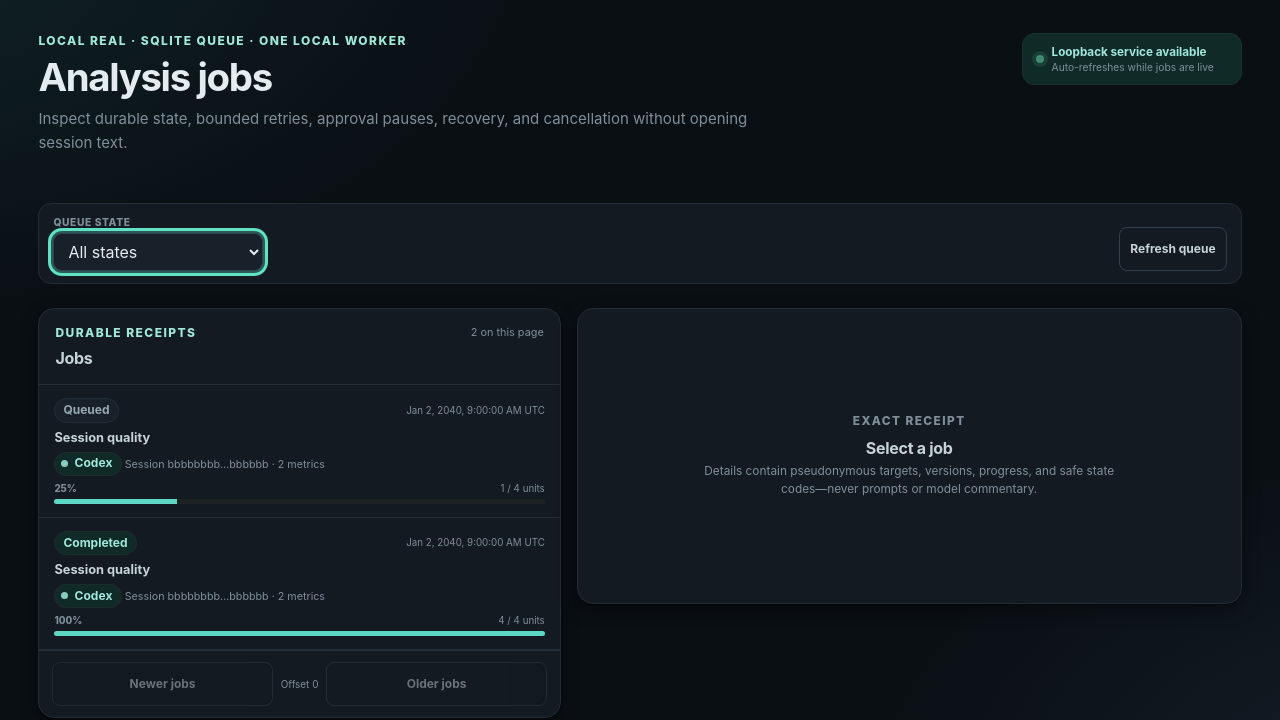
Test case: AnalysisJobCentre › filters through the authenticated list route and opens verified detail with keyboard-focusable controls
Expected: the text "2 on this page" is shown, [471,325,544,339]
Select "Completed" in the dropdown labelled "Queue state" at (158, 252), box [53,233,263,271]
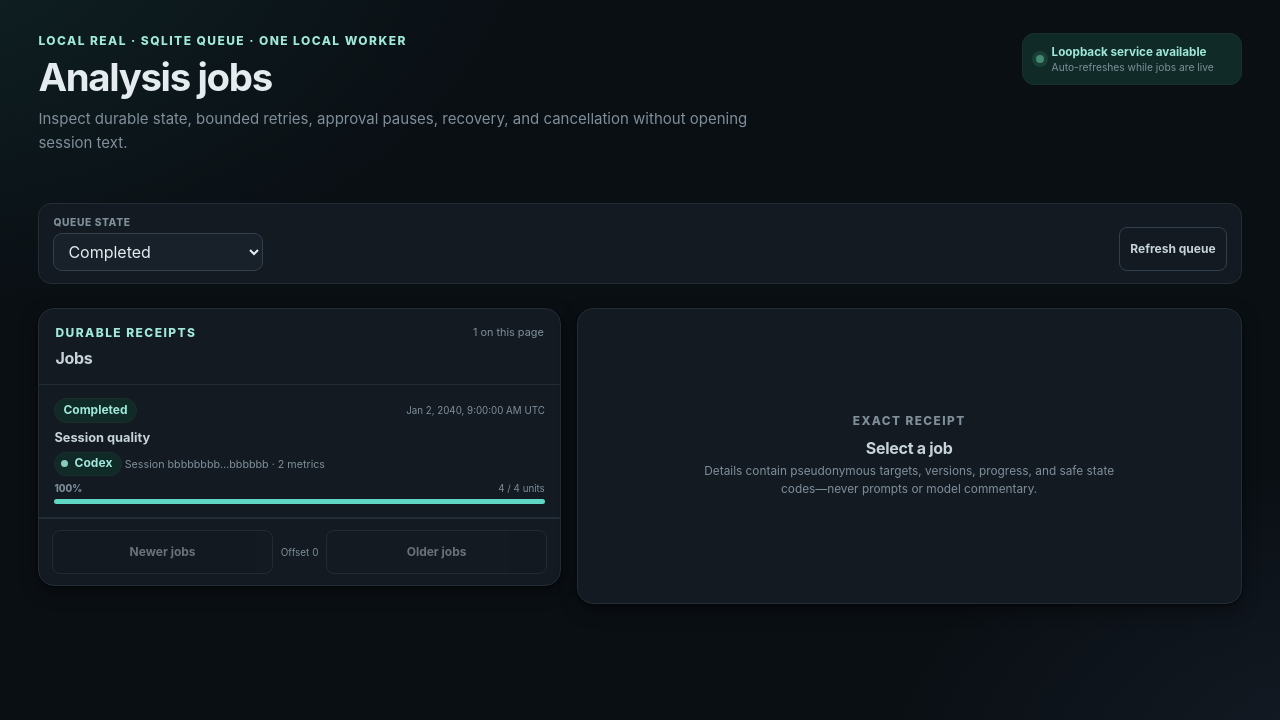
Click the button with class "analysis-job-card" at (95, 410), box [39,385,560,518]
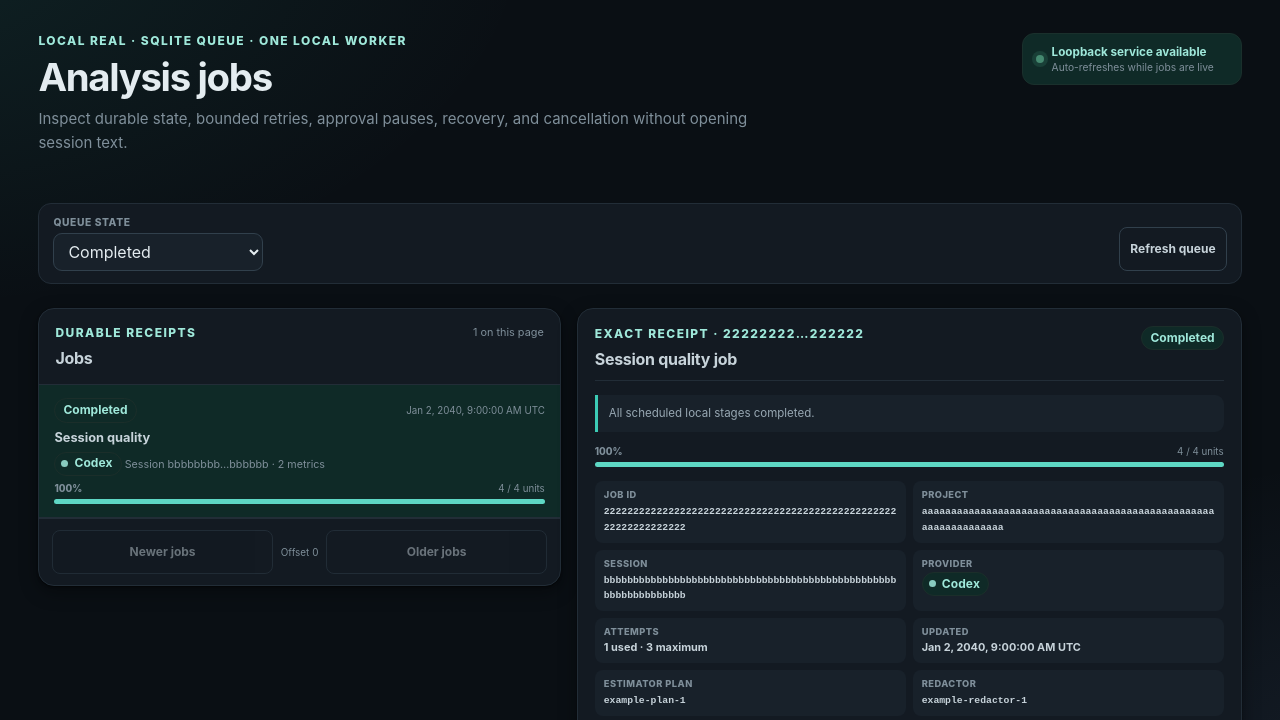
Result: the text "All scheduled local stages completed." is shown at [595,395,1224,432]
